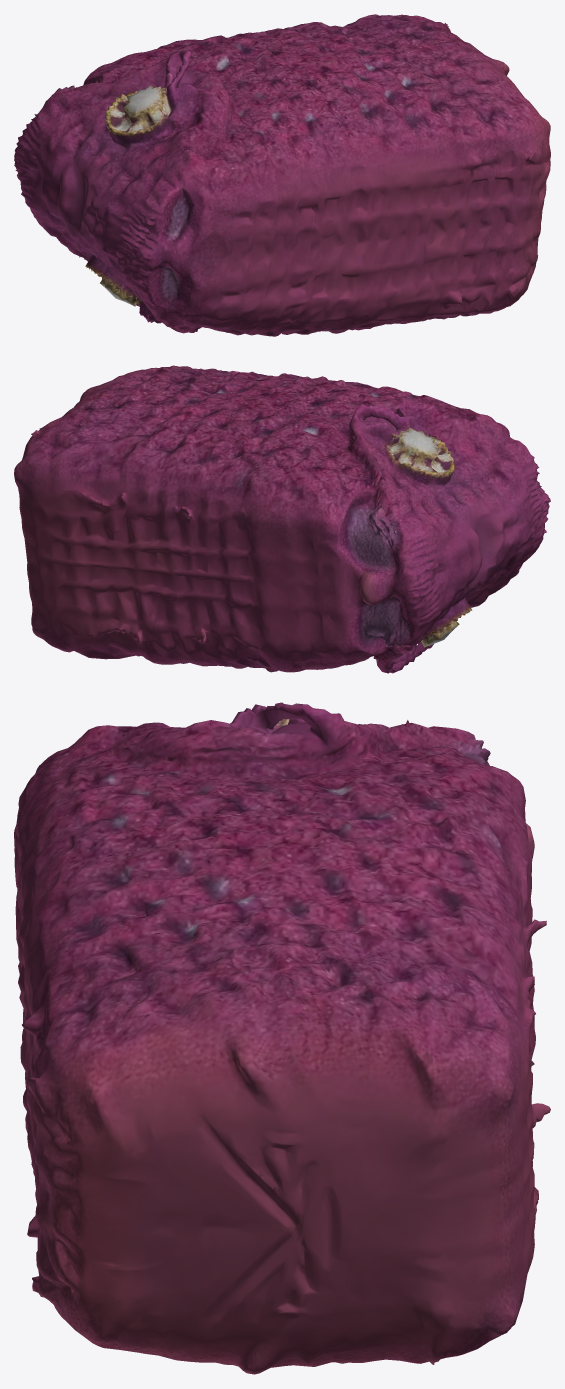
The model's file is TAROT_EXP.glb.
3 renders of one model, top to bottom at view 1: azimuth 30°, elevation 25°; view 2: azimuth 150°, elevation 25°; view 3: azimuth 270°, elevation 25°, orthographic. The views are drawn at different scales.
Parts seen in each view (by area): view 1: tripo_node_20f31731-6c5a-459c-8cec-20db01a0f18a; view 2: tripo_node_20f31731-6c5a-459c-8cec-20db01a0f18a; view 3: tripo_node_20f31731-6c5a-459c-8cec-20db01a0f18a.
Part boxes in pixels (x1,y1,x2,y2): tripo_node_20f31731-6c5a-459c-8cec-20db01a0f18a: (14,14,550,336); tripo_node_20f31731-6c5a-459c-8cec-20db01a0f18a: (14,365,550,673); tripo_node_20f31731-6c5a-459c-8cec-20db01a0f18a: (14,702,550,1374).
Bounding box in the file's own units: 0.2177 × 0.1396 × 0.1446.
Materials: 1 (1 with a texture image).
